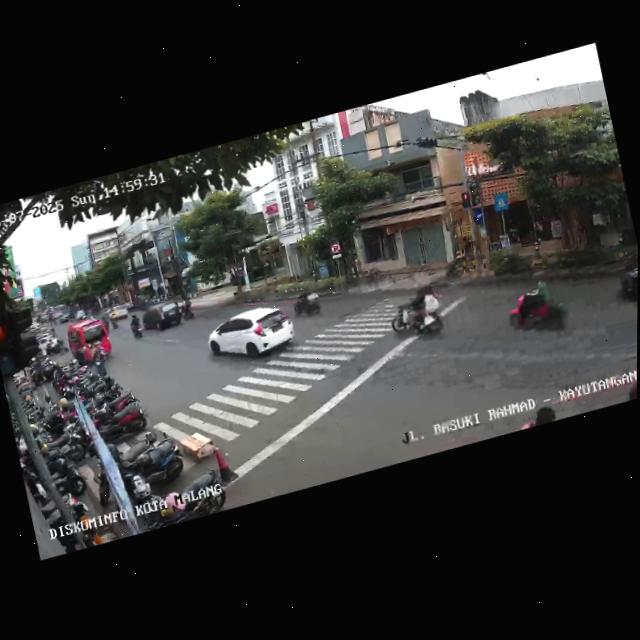car: (202, 297, 299, 374), (65, 314, 113, 368), (606, 245, 638, 313), (141, 296, 186, 336), (106, 301, 134, 328), (50, 303, 75, 325)
motorcycle: (502, 269, 575, 346), (386, 284, 448, 348), (287, 279, 323, 322), (127, 311, 146, 340)
